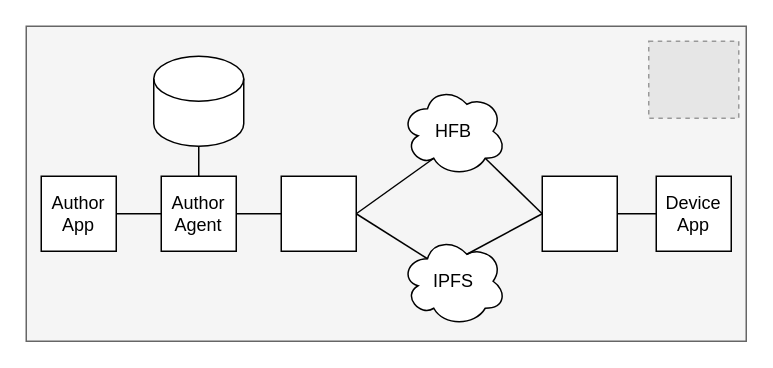
This 773x368 diagram has some shape labels left out. Grey dashed boxes stand in for pictures. Here are the shapes that lost their labels. From the top down, the box of each, then its label:
(152, 55, 244, 146): MongoDB
(280, 175, 356, 251): Register Agent
(541, 175, 617, 251): Retrieval Agent
